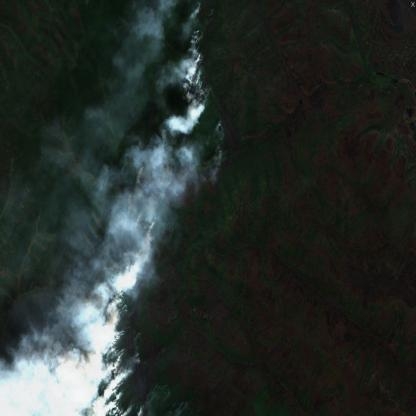fire: (84, 140, 200, 416), (180, 20, 216, 113)
